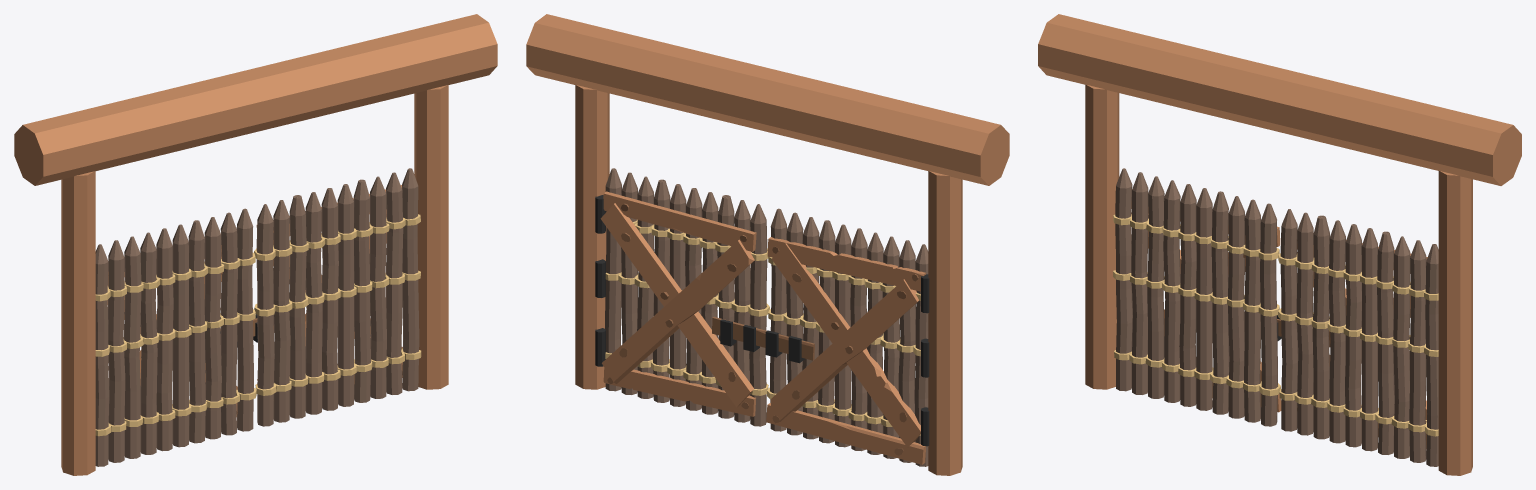
Rendered from fort-gate.fbx.
The picture shows the model from 3 angles, left to right: view 1: azimuth 30°, elevation 25°; view 2: azimuth 150°, elevation 25°; view 3: azimuth 330°, elevation 25°; orthographic projection.
Parts seen in each view (by area): view 1: fort-gate; view 2: fort-gate; view 3: fort-gate.
Part boxes in pixels (<box>): fort-gate: <box>14,14,497,475</box>; fort-gate: <box>526,14,1009,475</box>; fort-gate: <box>1038,14,1521,475</box>.
Bounding box in the file's own units: 744 × 550 × 82.36.
